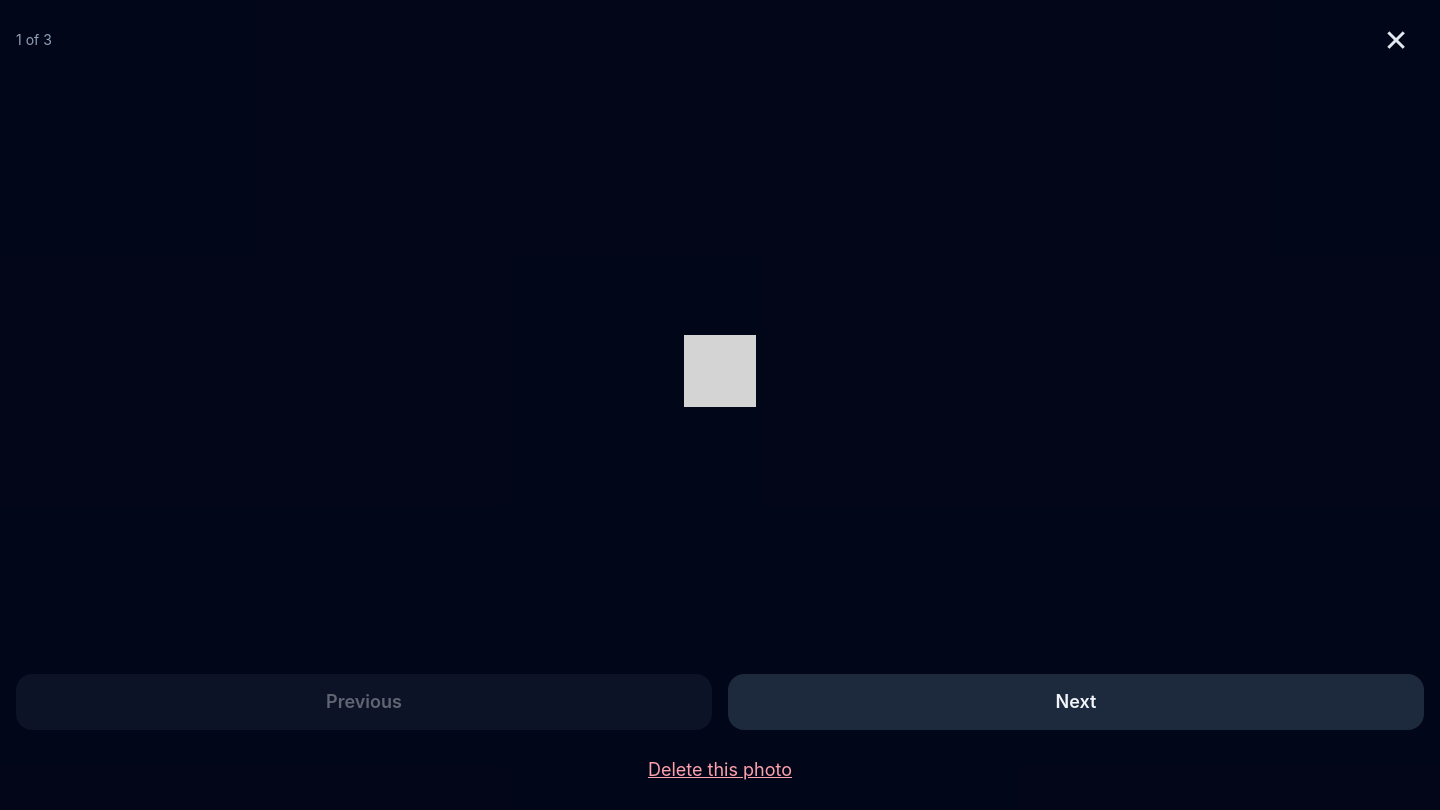
Test: PhotoViewer › stops at both ends
Expected: the button "Previous" is disabled, [16,674,712,730]
Click the button "Next".
click(1076, 702)  # box [728,674,1424,730]
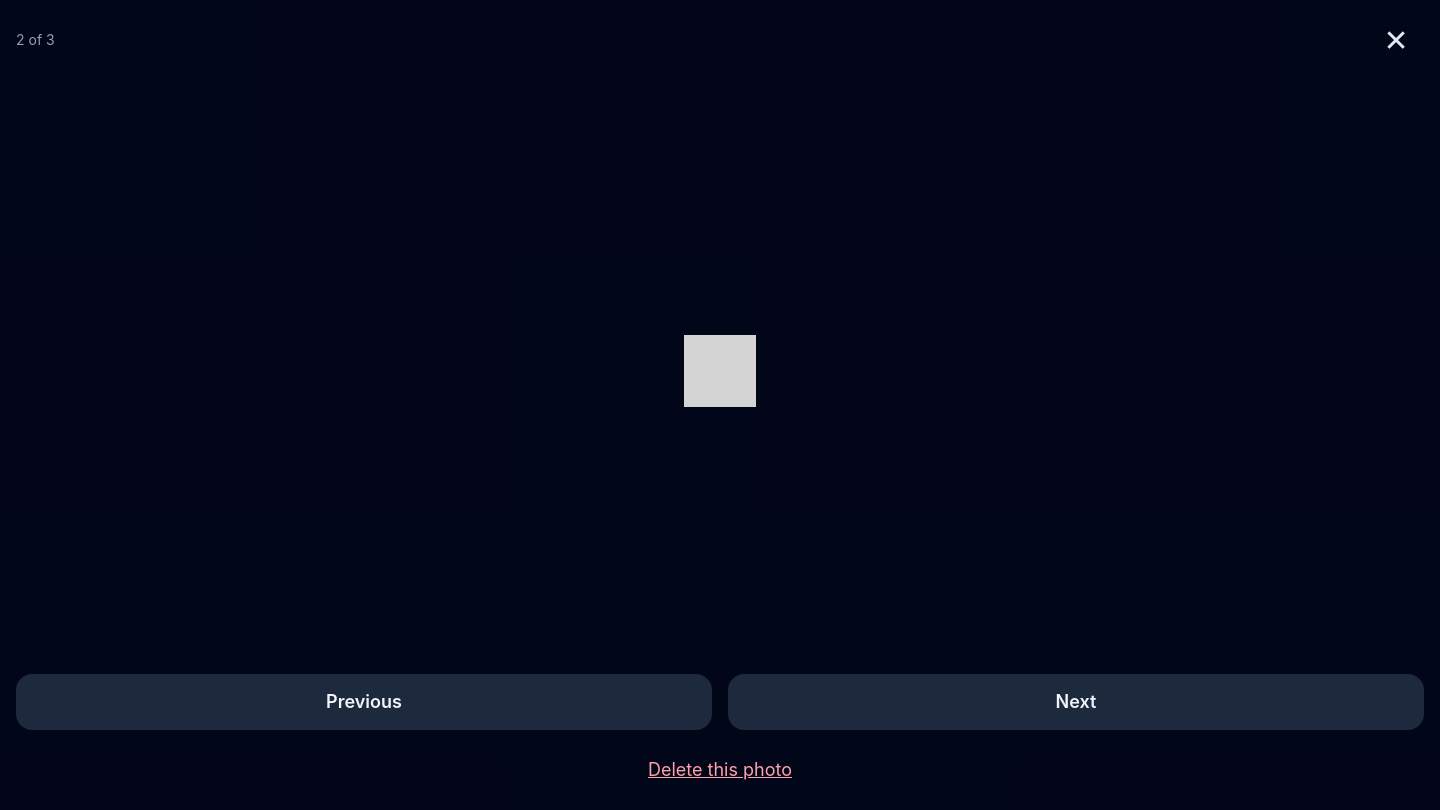
Click the button "Next".
click(1076, 702)  # box [728,674,1424,730]
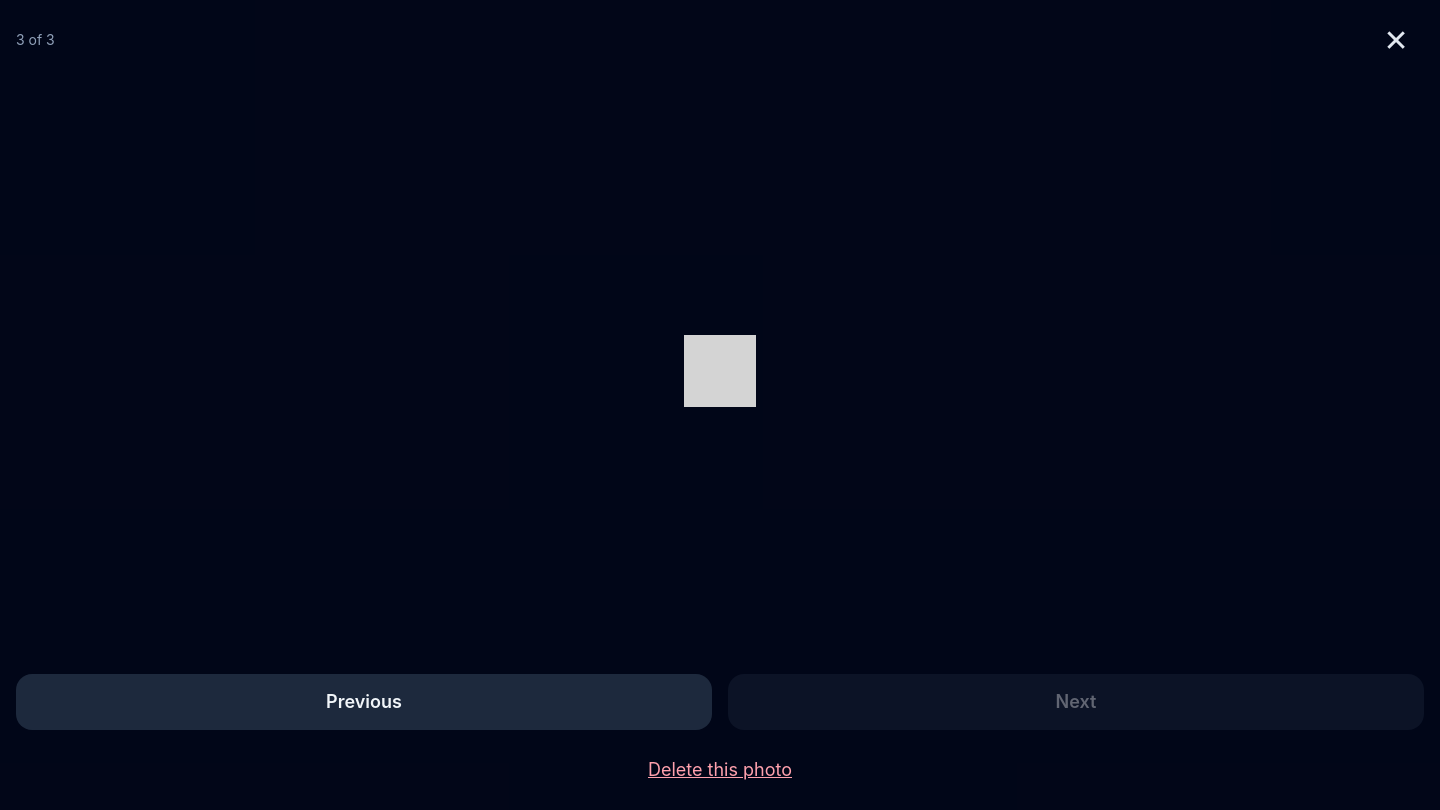
Now the text "3 of 3" is shown, box [16,30,55,50]
Now the button "Next" is disabled, box [728,674,1424,730]
